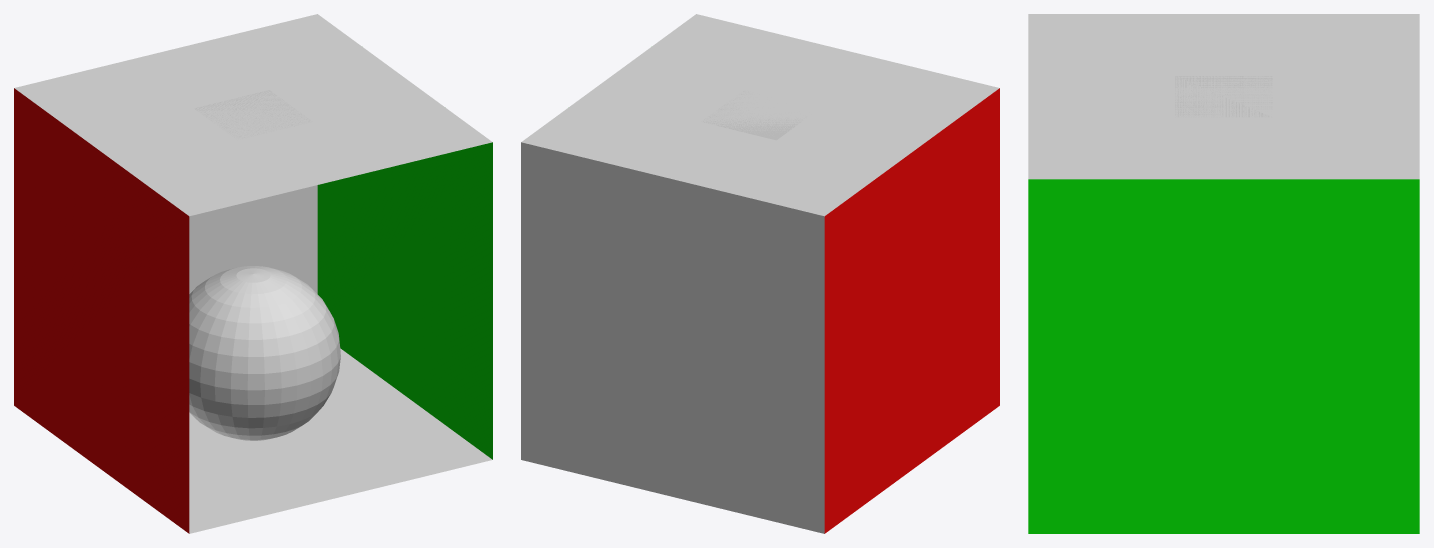
File: my_Cornell_Box.obj
3 views of the same model, side by side, from view 1: azimuth 30°, elevation 25°; view 2: azimuth 150°, elevation 25°; view 3: azimuth 270°, elevation 25° (orthographic). The views are drawn at different scales.
Visible parts, largest first — view 1: Plane.004, Plane, Plane.003, Plane.001, Sphere, Plane.002, Plane.005; view 2: Plane.002, Plane.004, Plane, Plane.005; view 3: Plane.003, Plane, Plane.005.
Part boxes in pixels (<box>): Plane.004: <box>14,88,189,533</box>; Plane: <box>14,14,492,216</box>; Plane.003: <box>317,142,492,459</box>; Plane.001: <box>189,348,492,533</box>; Sphere: <box>189,266,340,440</box>; Plane.002: <box>189,185,317,293</box>; Plane.005: <box>194,90,312,138</box>; Plane.002: <box>521,142,824,533</box>; Plane.004: <box>824,88,999,533</box>; Plane: <box>521,14,999,216</box>; Plane.005: <box>701,91,806,140</box>; Plane.003: <box>1028,179,1419,533</box>; Plane: <box>1028,14,1419,179</box>; Plane.005: <box>1175,76,1272,117</box>.
Bounding box in the file's own units: 4 × 4 × 4.
